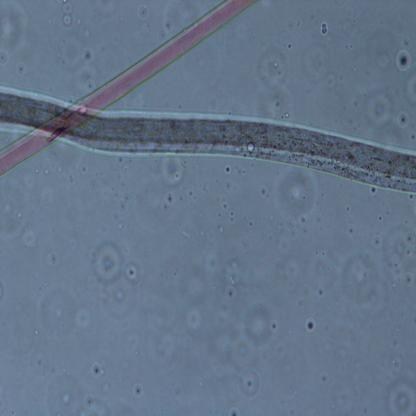Background material: (338, 256, 390, 318), (39, 370, 107, 416), (38, 286, 90, 336), (273, 167, 317, 224), (88, 240, 125, 281), (104, 277, 138, 320), (228, 328, 259, 369), (382, 225, 410, 269), (145, 328, 174, 370), (255, 46, 287, 84), (386, 379, 416, 416), (245, 302, 273, 341), (366, 91, 392, 126), (237, 366, 263, 399), (157, 156, 183, 184), (385, 348, 406, 375), (394, 48, 413, 74), (124, 260, 143, 284), (403, 232, 416, 266), (366, 229, 386, 249), (160, 190, 176, 214), (128, 378, 146, 399), (404, 72, 416, 102), (20, 229, 37, 249), (376, 50, 392, 70), (186, 309, 202, 329), (169, 378, 184, 398), (223, 279, 237, 300), (302, 316, 318, 334), (86, 362, 104, 378), (114, 153, 130, 171), (324, 71, 338, 91), (110, 211, 126, 228), (107, 182, 121, 198), (397, 109, 409, 127), (402, 270, 414, 288), (269, 316, 280, 334), (257, 180, 268, 198), (76, 162, 90, 176), (46, 251, 59, 266), (406, 128, 416, 144), (345, 223, 357, 236), (319, 21, 328, 37), (286, 226, 298, 238), (319, 371, 329, 385), (301, 284, 311, 298), (315, 286, 326, 298), (286, 18, 296, 31), (223, 178, 233, 191), (119, 201, 130, 212), (274, 98, 284, 110), (228, 208, 236, 223), (351, 96, 360, 109), (230, 258, 238, 272), (200, 180, 208, 194), (314, 250, 326, 258), (228, 408, 240, 416), (217, 223, 225, 234), (67, 173, 74, 184), (248, 218, 255, 228), (345, 42, 353, 50), (368, 186, 376, 194), (298, 217, 306, 225), (376, 214, 384, 222), (298, 300, 306, 308), (223, 165, 230, 174), (16, 210, 22, 220), (222, 201, 228, 211), (402, 39, 410, 46), (344, 204, 350, 213), (303, 228, 309, 236), (286, 42, 292, 48), (179, 197, 183, 202), (310, 34, 315, 38)
Microfibre: (0, 79, 416, 193), (0, 2, 256, 175)
